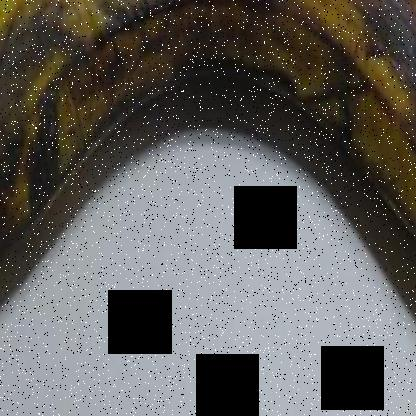rotten: (1, 0, 415, 272)
